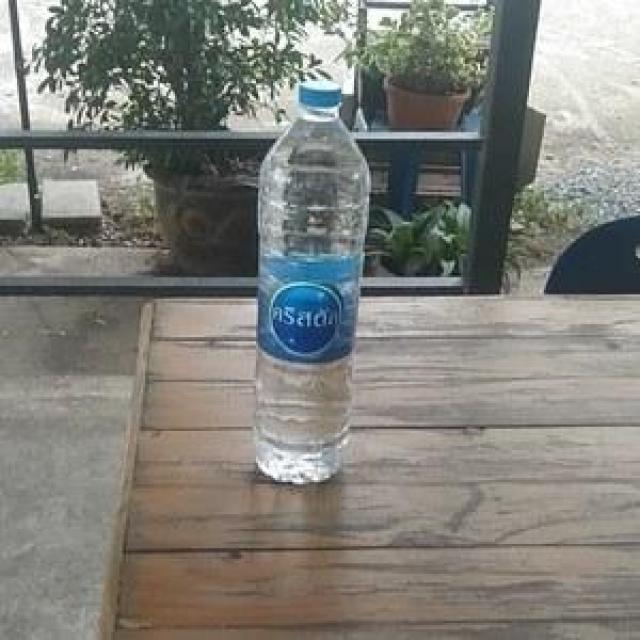bottle: (249, 66, 369, 511)
